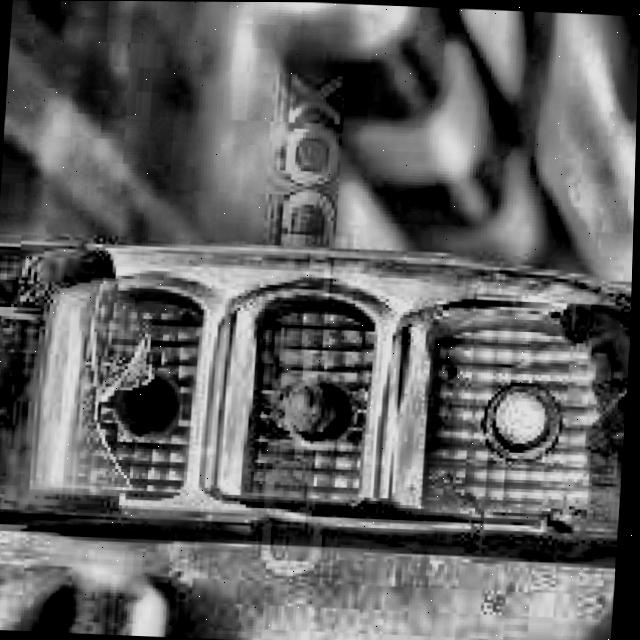tail_lamp: (0, 251, 633, 562)
